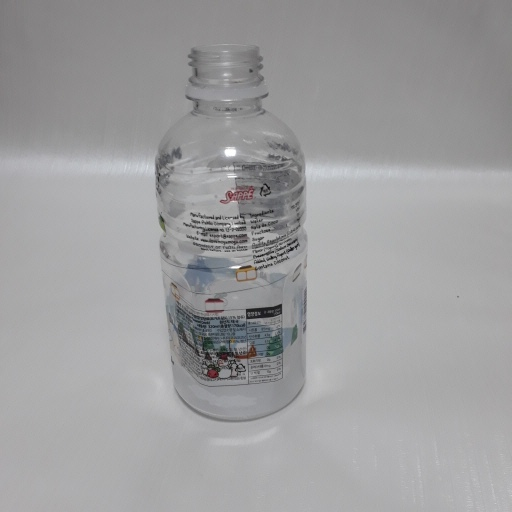Plastic_0: (153, 41, 312, 424)
